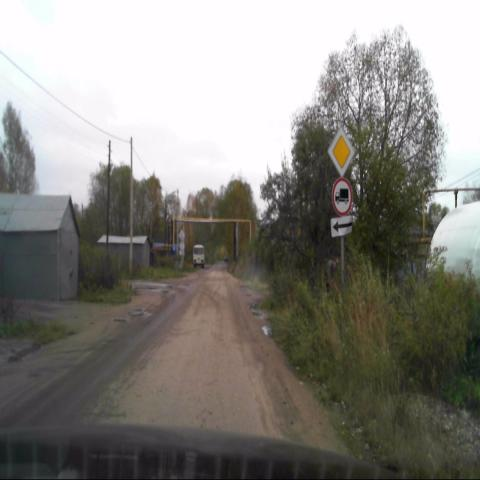2_1: (328, 126, 354, 179)
3_4_1: (331, 178, 353, 215)
8_3_2: (330, 216, 353, 238)
